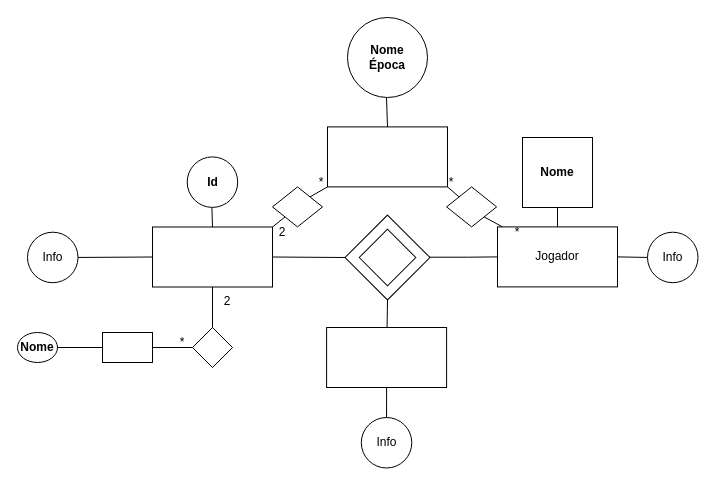
The diagram is 716 pixels wide and 486 high, and some of its shapes have lost their labels. Each missing label, with the centre of its shape:
"Arbitro" belongs at [127,347].
"Equipa" belongs at [387,156].
"Estatística" belongs at [386,357].
"Jogo" belongs at [212,256].
